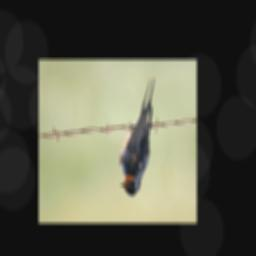Swallow: (119, 77, 156, 198)
